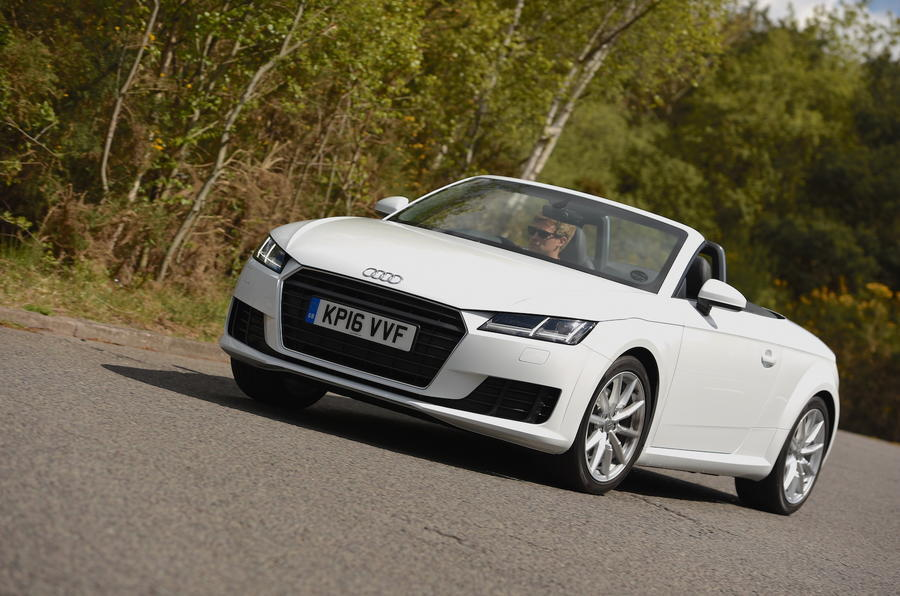car: (218, 174, 841, 517)
